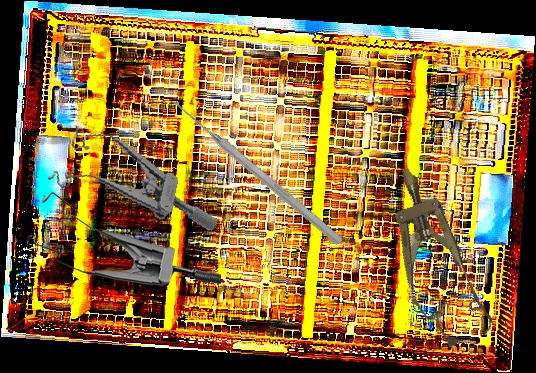Pusher: (169, 96, 346, 248)
Speculum: (370, 156, 500, 355), (42, 121, 232, 233), (26, 188, 221, 291)
